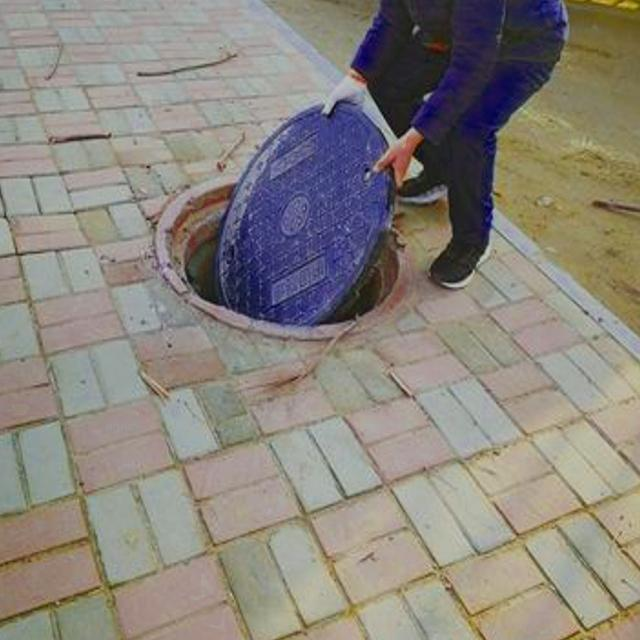uncovered: (122, 67, 425, 368)
